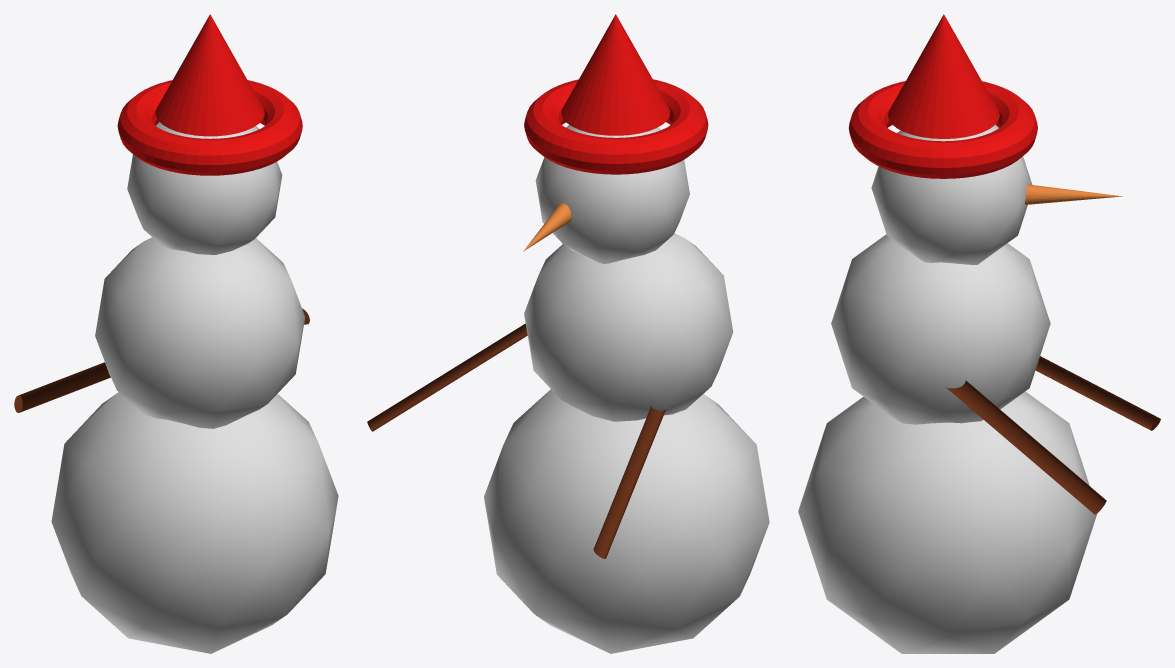
3 renders of one model, left to right at view 1: azimuth 30°, elevation 25°; view 2: azimuth 150°, elevation 25°; view 3: azimuth 270°, elevation 25°, orthographic. The views are drawn at different scales.
Visible parts, largest first — view 1: Snowman; view 2: Snowman; view 3: Snowman.
Part boxes in pixels (box(x1,y1,x2,y2)): Snowman: box(14, 14, 338, 653); Snowman: box(367, 14, 769, 653); Snowman: box(798, 14, 1160, 653).
Size of the model in its own units: 6.49 by 12.61 by 6.48.
